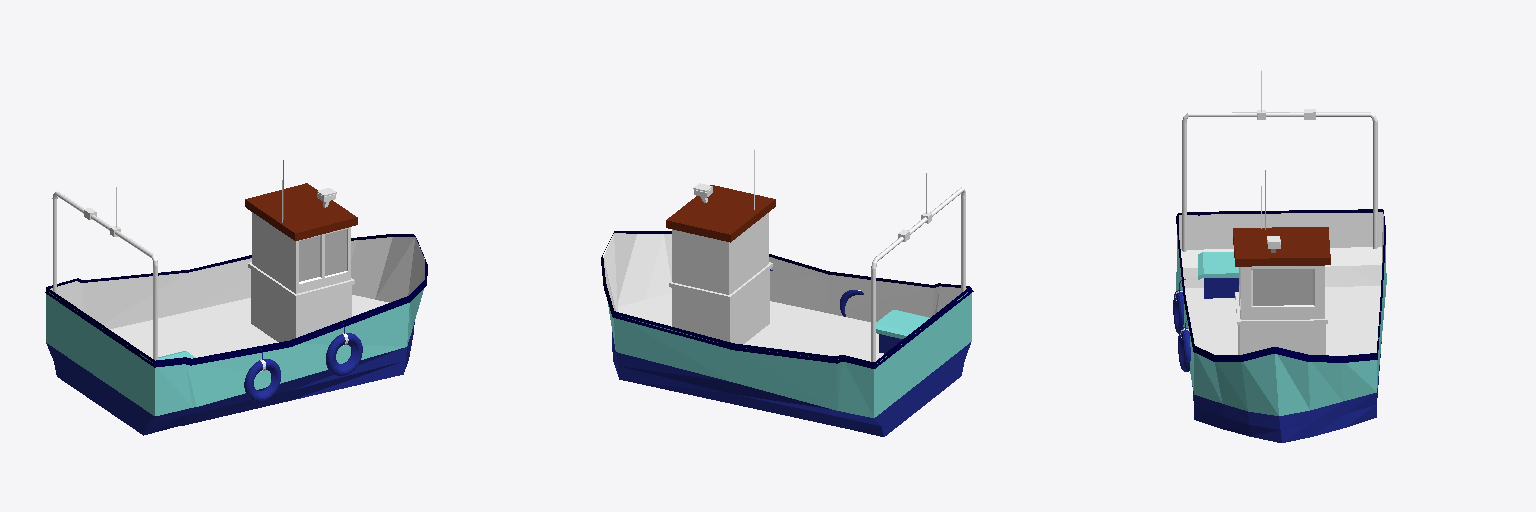
3 renders of one model, left to right at view 1: azimuth 30°, elevation 25°; view 2: azimuth 150°, elevation 25°; view 3: azimuth 270°, elevation 25°, orthographic.
Visible parts, largest first — view 1: круги; view 2: круги; view 3: круги.
Part boxes in pixels (bbox=[...]): круги: bbox=[45, 160, 427, 435]; круги: bbox=[601, 149, 973, 436]; круги: bbox=[1173, 70, 1386, 442].
Size of the model in its own units: 1.68 by 1.14 by 0.9771.
3 materials, 1 textured.